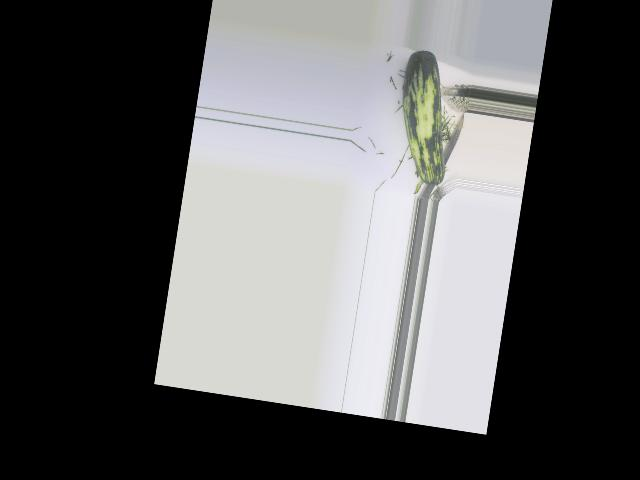cucumber: (388, 48, 462, 187)
